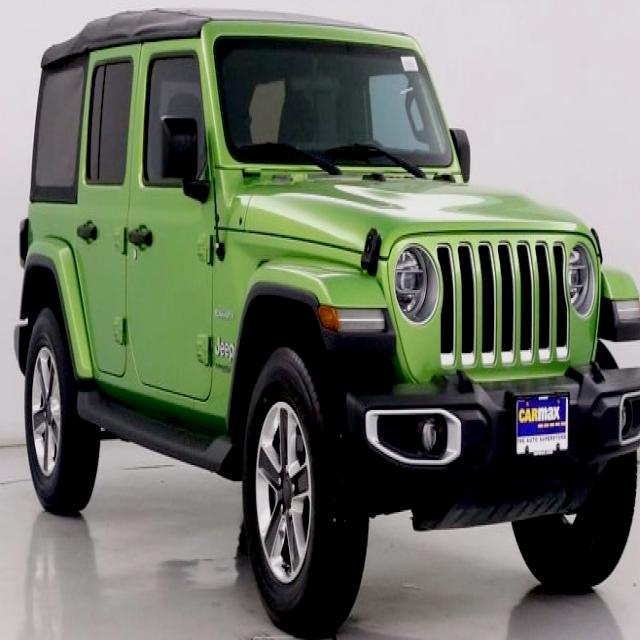green: (26, 11, 640, 640)
